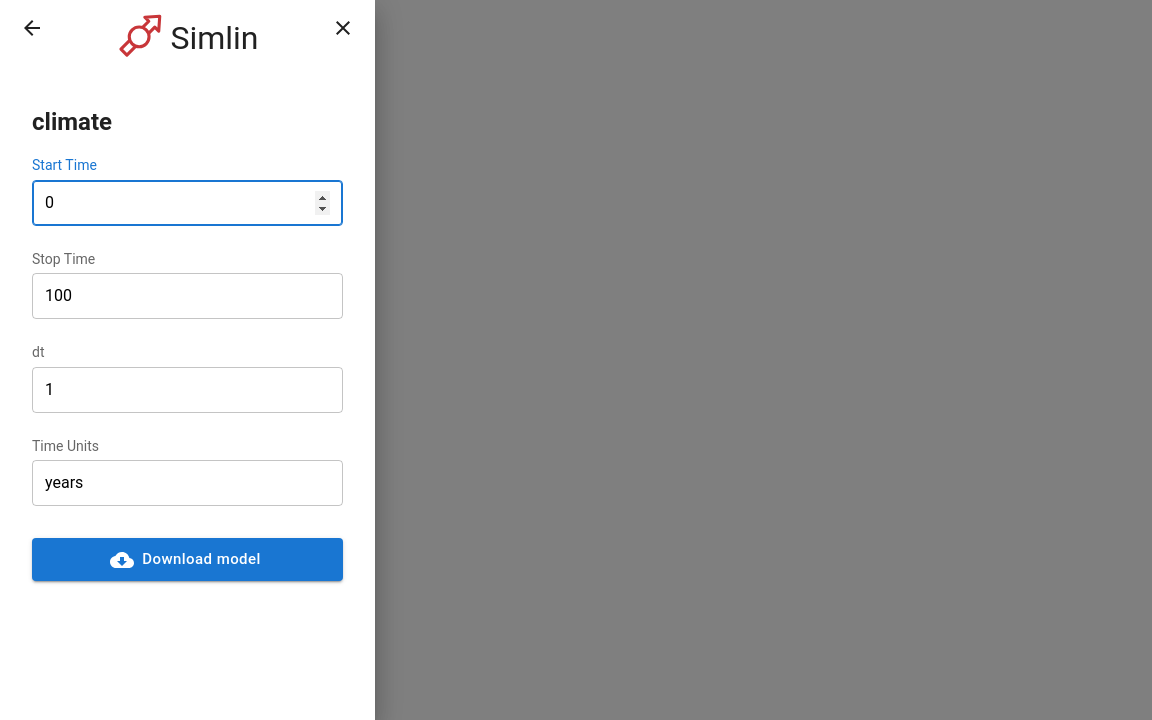
Test: ModelPropertiesDrawer › sim-specs draft commit (issue #55) › Escape reverts the draft without committing
Replace the text in the number field labelled "Start Time" with "4321": (188, 203) [45, 181, 330, 225]
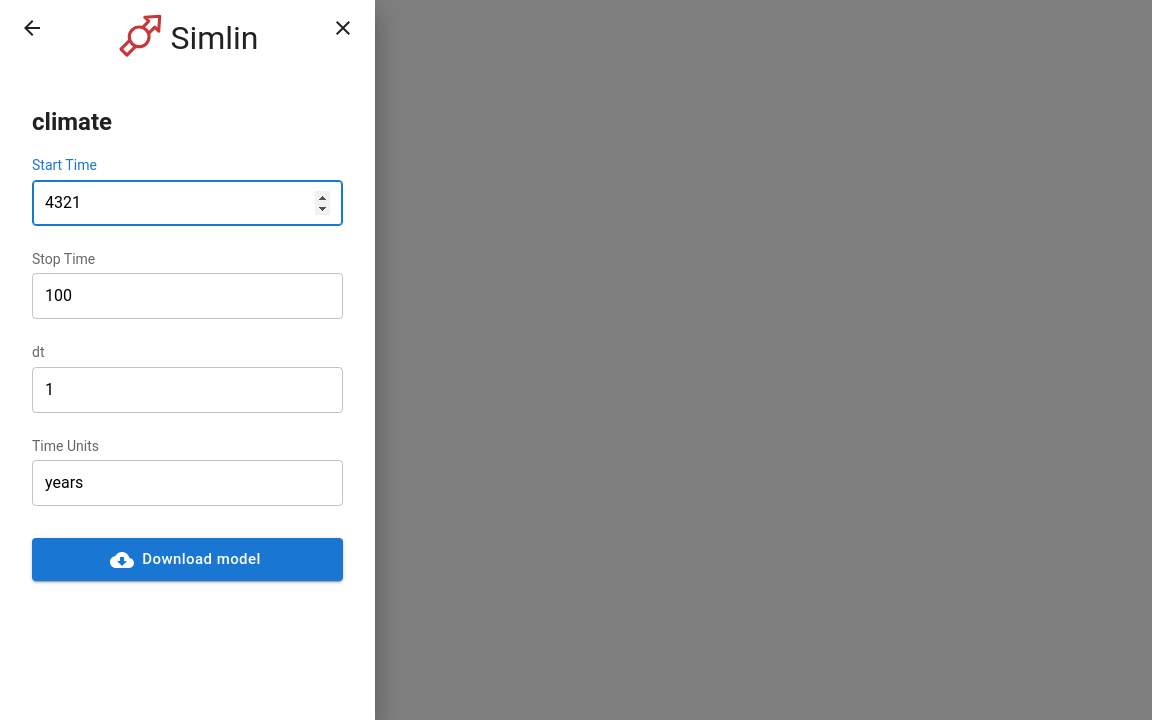
Press Escape in the number field labelled "Start Time", box [45, 181, 330, 225]
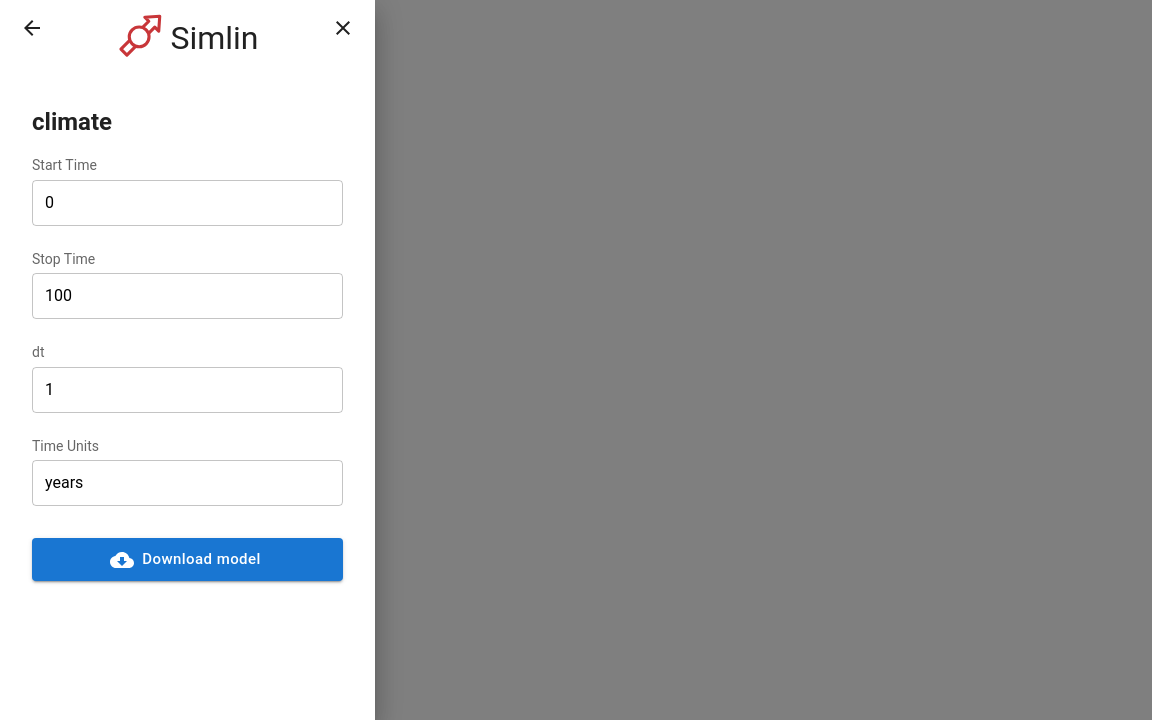
Result: the number field labelled "Start Time" holds "0" at [45, 181, 330, 225]
